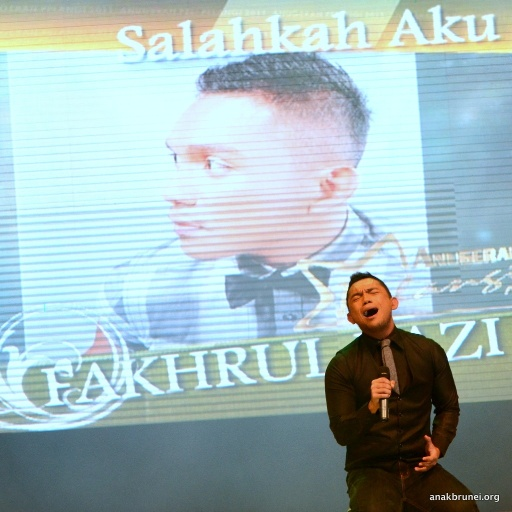hand: (367, 375, 397, 410), (413, 433, 439, 473)
